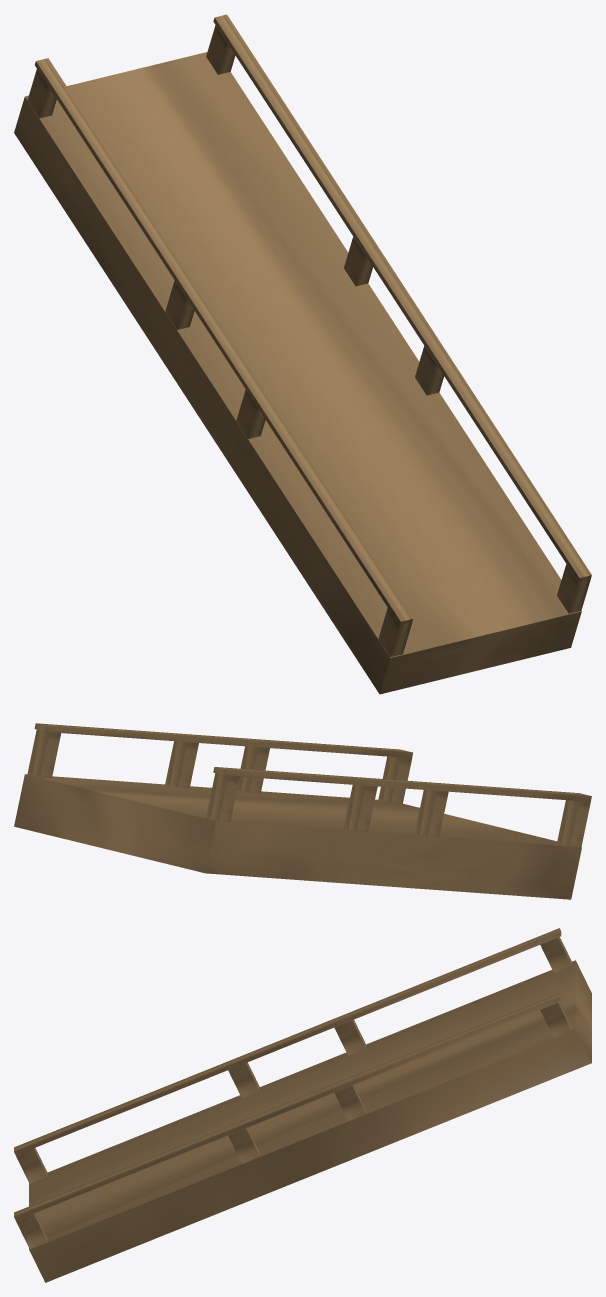
Rendered from bridge_0.fbx.
3 renders of one model, top to bottom at view 1: azimuth 30°, elevation 25°; view 2: azimuth 150°, elevation 25°; view 3: azimuth 270°, elevation 25°, orthographic. The views are drawn at different scales.
Parts seen in each view (by area): view 1: polySurface1; view 2: polySurface1; view 3: polySurface1.
Boxes of the visible parts, <box> form: polySurface1: <box>14,14,591,694</box>; polySurface1: <box>14,723,591,899</box>; polySurface1: <box>14,928,591,1282</box>.
Size of the model in its own units: 12.71 by 24.21 by 44.47.
